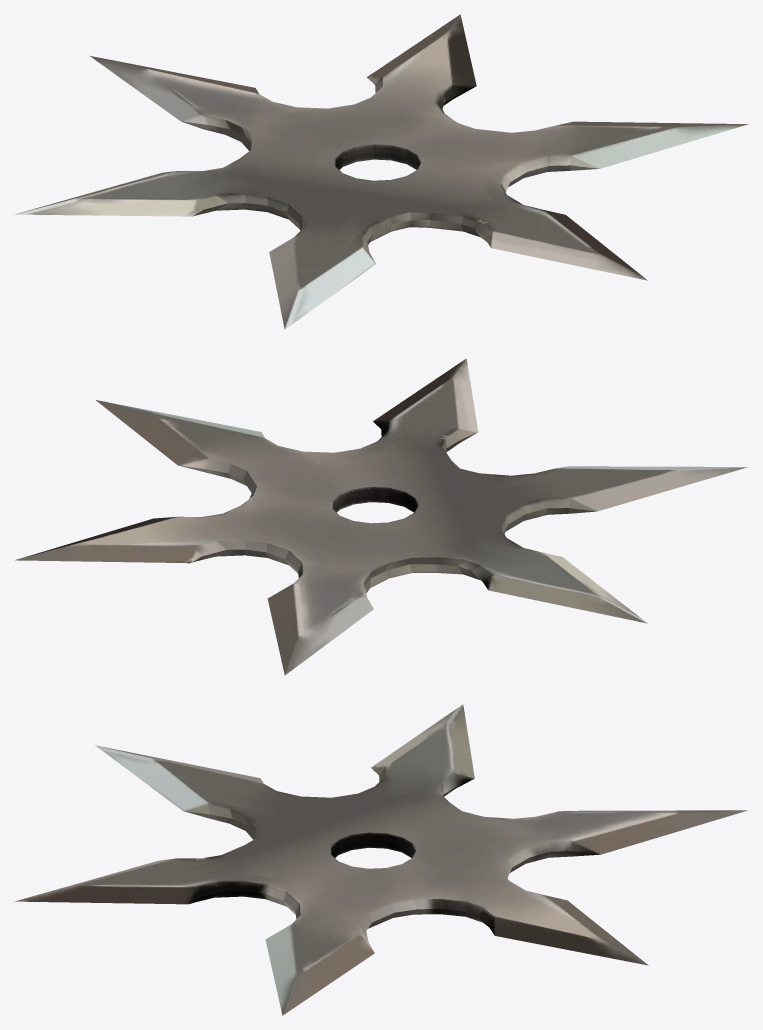
The model's file is shuriken.glb.
3 views of the same model, one above another, from view 1: azimuth 30°, elevation 25°; view 2: azimuth 150°, elevation 25°; view 3: azimuth 270°, elevation 25° (orthographic).
Parts seen in each view (by area): view 1: shuriken; view 2: shuriken; view 3: shuriken.
Boxes of the visible parts, x1,y1,x2,y2 form: shuriken: [14, 14, 748, 329]; shuriken: [15, 358, 747, 675]; shuriken: [14, 704, 747, 1015].
Size of the model in its own units: 0.4215 by 0.00952 by 0.42.
Materials: 1 (1 with a texture image).
